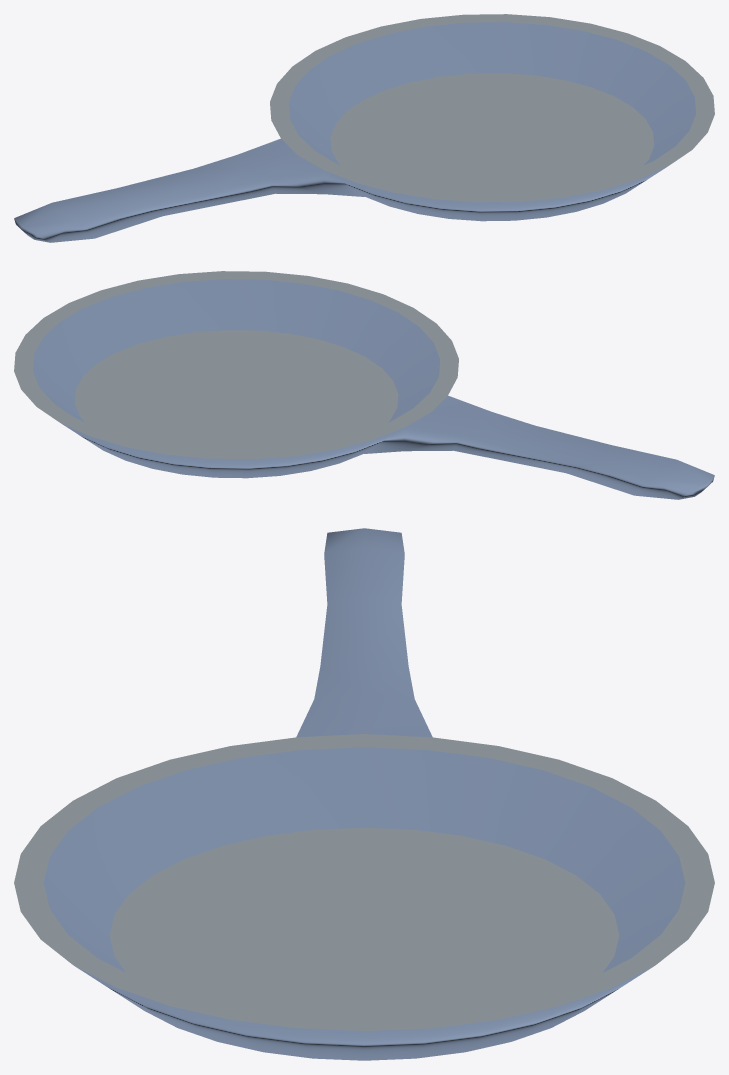
Rendered from pan.glb.
3 views of the same model, one above another, from view 1: azimuth 30°, elevation 25°; view 2: azimuth 150°, elevation 25°; view 3: azimuth 270°, elevation 25° (orthographic). The views are drawn at different scales.
Parts seen in each view (by area): view 1: Cylinder; view 2: Cylinder; view 3: Cylinder.
Boxes of the visible parts, x1,y1,x2,y2 form: Cylinder: (14, 14, 714, 242); Cylinder: (14, 271, 714, 499); Cylinder: (14, 528, 714, 1060).
Size of the model in its own units: 61.08 by 3.91 by 35.5.
